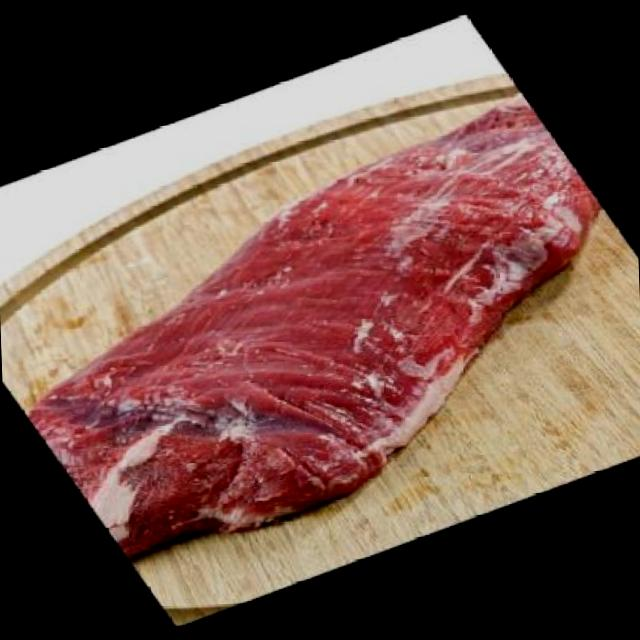beef: (0, 82, 640, 581)
